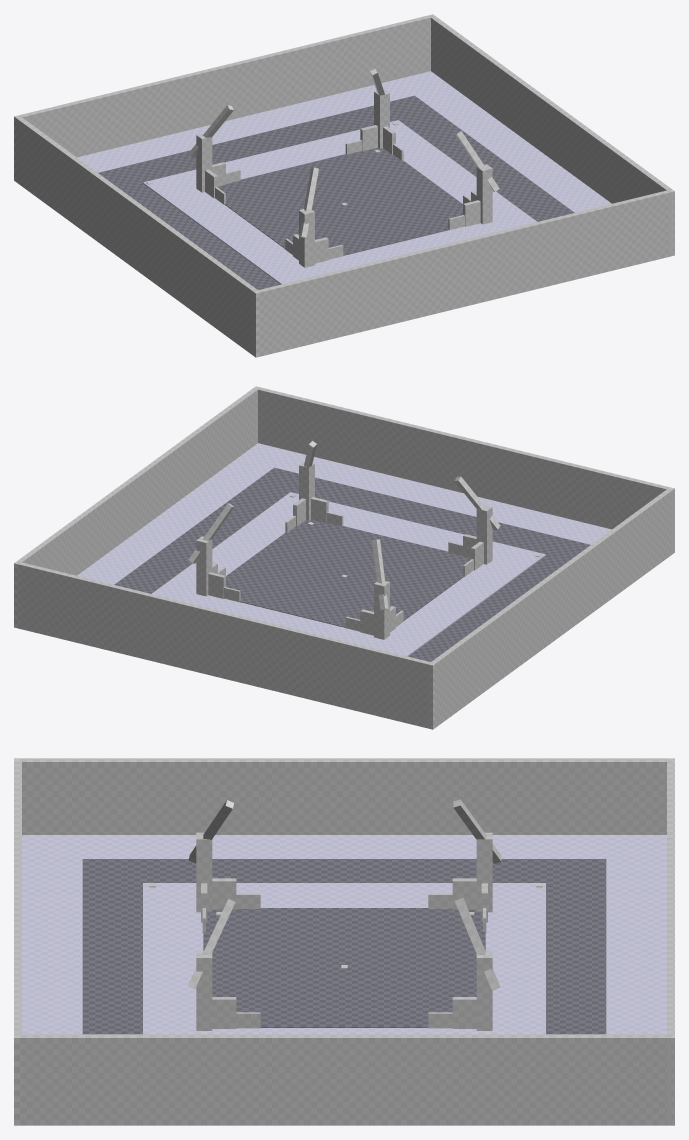
Rendered from Juggy.obj.
3 views of the same model, one above another, from view 1: azimuth 30°, elevation 25°; view 2: azimuth 150°, elevation 25°; view 3: azimuth 270°, elevation 25° (orthographic). The views are drawn at different scales.
Visible parts, largest first — view 1: Wall103, Wall97, Wall115, Brick1, Brick7, Brick13, Brick19, Wall109, Column19, Column1, Column7, Column13; view 2: Wall97, Wall103, Wall115, Brick1, Brick7, Brick13, Brick19, Wall109, Column13, Column7, Column1, Column19 (+1 smaller); view 3: Wall109, Wall115, Brick19, Brick13, Brick1, Brick7, Wall103, Wall97, Column19, Column13, Column1, Column7 (+8 smaller).
Part boxes in pixels (bbox=[...]): Wall103: bbox=[253, 189, 674, 357]; Wall97: bbox=[14, 14, 435, 182]; Wall115: bbox=[14, 115, 260, 357]; Brick1: bbox=[218, 147, 462, 255]; Brick7: bbox=[143, 120, 536, 284]; Brick13: bbox=[98, 95, 574, 289]; Brick19: bbox=[77, 71, 611, 212]; Wall109: bbox=[431, 14, 674, 256]; Column19: bbox=[476, 164, 492, 224]; Column1: bbox=[299, 209, 314, 267]; Column7: bbox=[196, 133, 212, 192]; Column13: bbox=[374, 89, 389, 148]; Wall97: bbox=[14, 561, 435, 729]; Wall103: bbox=[253, 386, 674, 554]; Wall115: bbox=[428, 487, 671, 729]; Brick1: bbox=[226, 519, 470, 627]; Brick7: bbox=[152, 492, 545, 656]; Brick13: bbox=[114, 467, 590, 661]; Brick19: bbox=[77, 443, 611, 584]; Wall109: bbox=[14, 387, 258, 626]; Column13: bbox=[196, 536, 212, 596]; Column7: bbox=[374, 581, 389, 639]; Column1: bbox=[476, 505, 492, 564]; Column19: bbox=[299, 461, 314, 520]; Wall109: bbox=[14, 1034, 674, 1125]; Wall115: bbox=[14, 758, 674, 834]; Brick19: bbox=[22, 835, 666, 1034]; Brick13: bbox=[82, 859, 606, 1034]; Brick1: bbox=[203, 908, 485, 1027]; Brick7: bbox=[143, 883, 545, 1034]; Wall103: bbox=[14, 758, 21, 1125]; Wall97: bbox=[667, 758, 674, 1125]; Column19: bbox=[196, 951, 212, 1030]; Column13: bbox=[476, 951, 492, 1030]; Column1: bbox=[196, 832, 212, 912]; Column7: bbox=[476, 832, 492, 912].
Size of the model in its own units: 410 by 93.66 by 410.
